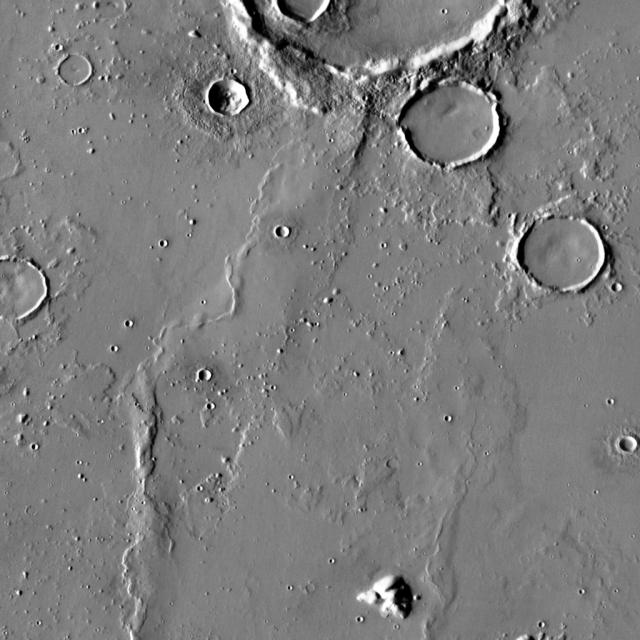crater: (238, 0, 528, 94), (400, 78, 498, 164), (516, 212, 602, 290), (0, 258, 42, 318), (208, 78, 248, 113), (58, 58, 92, 88), (620, 434, 638, 450), (275, 224, 291, 238), (176, 145, 188, 156), (388, 458, 399, 468), (27, 504, 38, 514), (200, 368, 210, 378), (612, 282, 622, 291), (208, 402, 216, 410), (54, 43, 62, 50), (160, 242, 168, 248), (24, 435, 31, 441), (444, 416, 451, 422)
